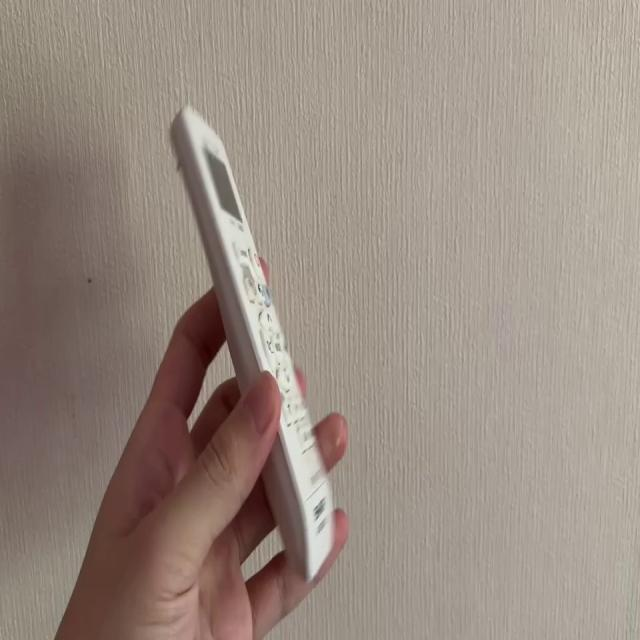remote: (170, 102, 335, 581)
